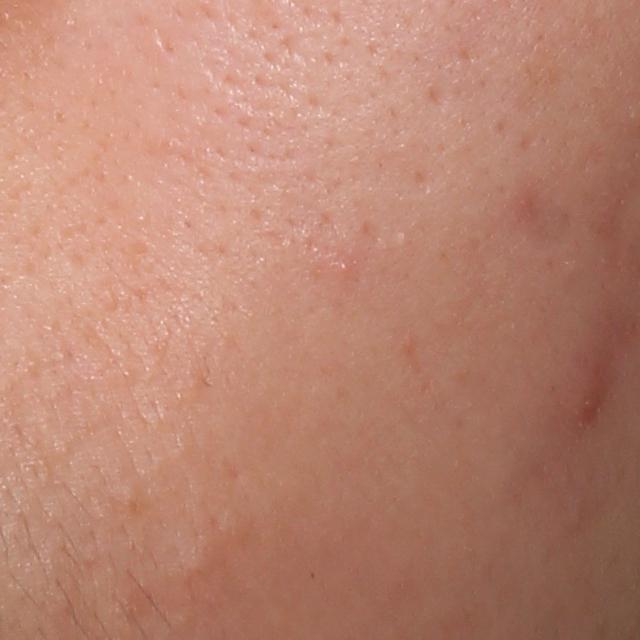comedo: (177, 543, 220, 582), (330, 252, 361, 277)
